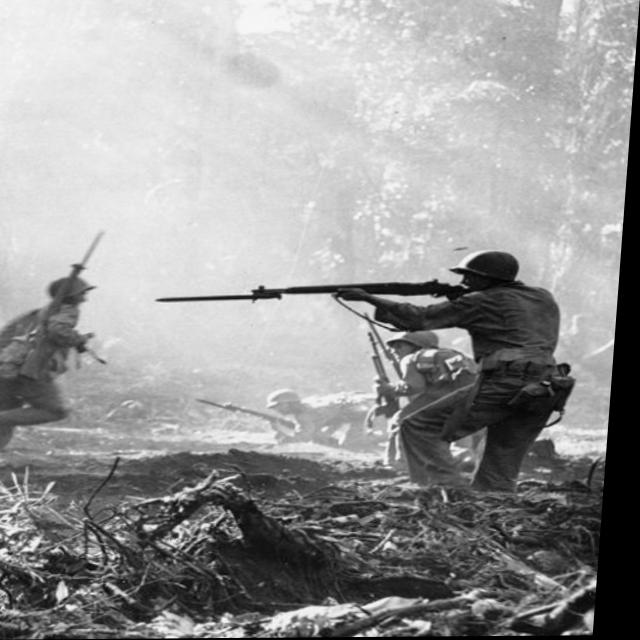other: (410, 251, 574, 505), (0, 273, 102, 439), (397, 327, 479, 392), (271, 388, 372, 440)
